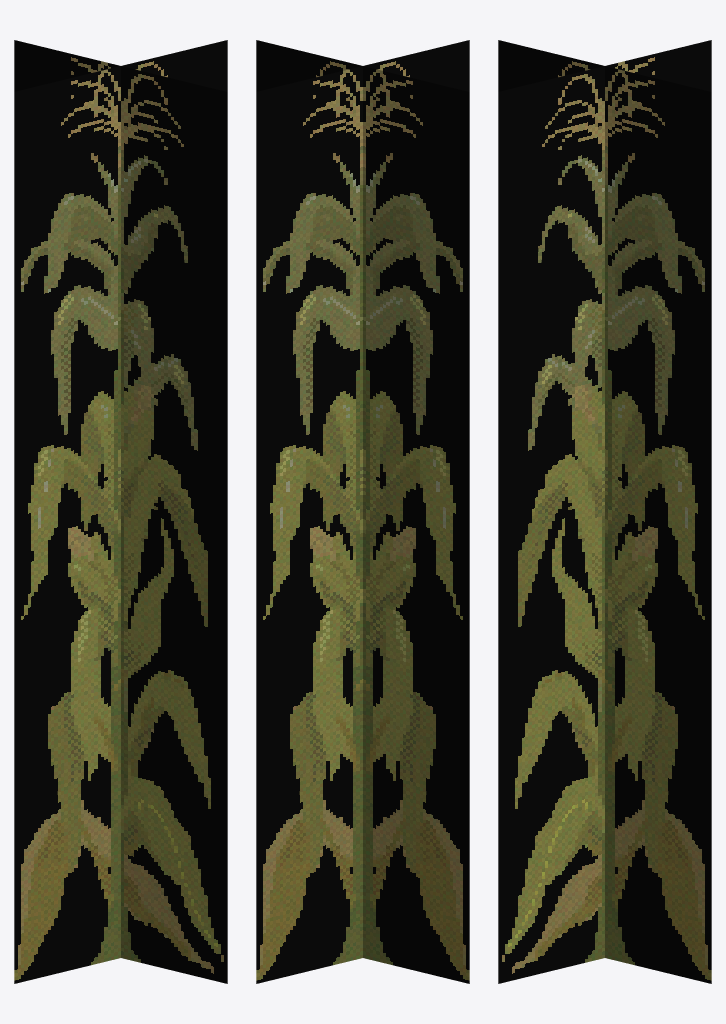
File: corn.glb
The picture shows the model from 3 angles, left to right: view 1: azimuth 30°, elevation 25°; view 2: azimuth 150°, elevation 25°; view 3: azimuth 270°, elevation 25°; orthographic projection.
Parts seen in each view (by area): view 1: Plane; view 2: Plane; view 3: Plane.
Boxes of the visible parts, <box> form: Plane: <box>14,40,227,983</box>; Plane: <box>256,40,469,983</box>; Plane: <box>498,40,711,983</box>.
Size of the model in its own units: 0.75 by 3 by 0.6495.
Materials: 1 (1 with a texture image).
